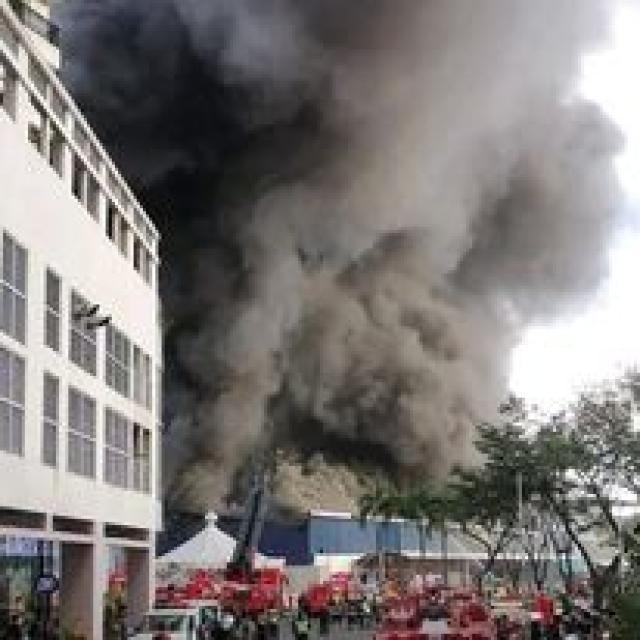Smoke: (69, 1, 622, 218), (172, 232, 520, 456)
